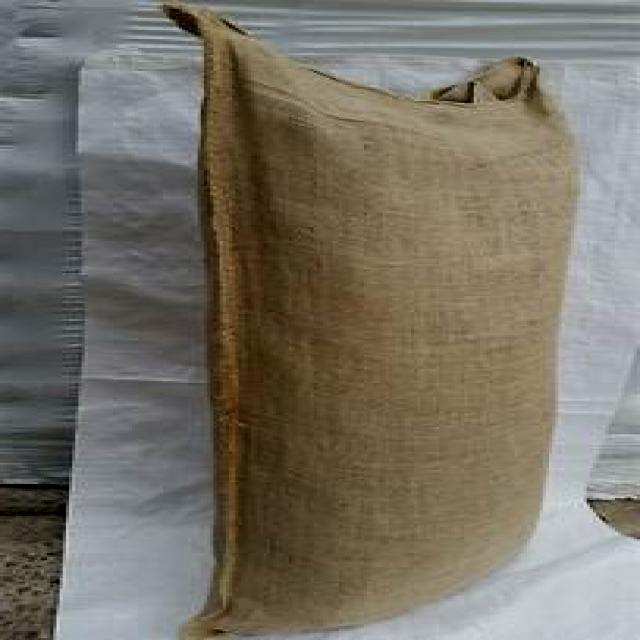gunny_bag: (158, 3, 597, 640)
